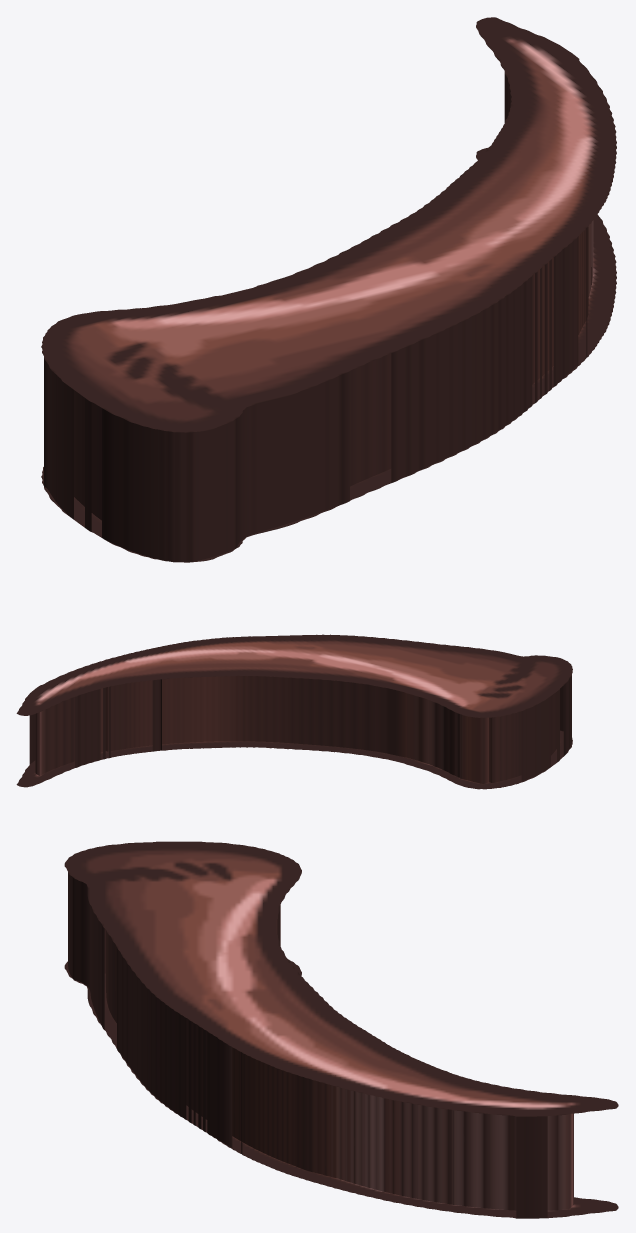
The picture shows the model from 3 angles, top to bottom: view 1: azimuth 30°, elevation 25°; view 2: azimuth 150°, elevation 25°; view 3: azimuth 270°, elevation 25°; orthographic projection. The views are drawn at different scales.
Parts seen in each view (by area): view 1: Curve; view 2: Curve; view 3: Curve.
Part boxes in pixels (x1,y1,x2,y2): Curve: [41, 17, 616, 562]; Curve: [16, 634, 572, 789]; Curve: [64, 841, 618, 1218].
Size of the model in its own units: 1 by 0.16 by 0.864.
Materials: 1 (1 with a texture image).
